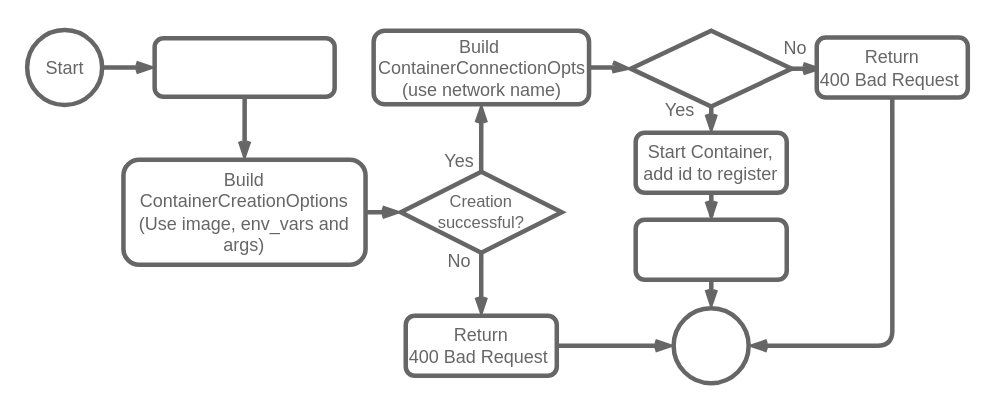
Image size: 998x411. Some labels were removed from this diagram. Here are the shapes that lost their labels. From the top down, the centre of each, then its label:
(244,66): Deserialize AdditionOrder
(710,68): Connection successful?
(710,249): Return 200 OK
(710,345): End
